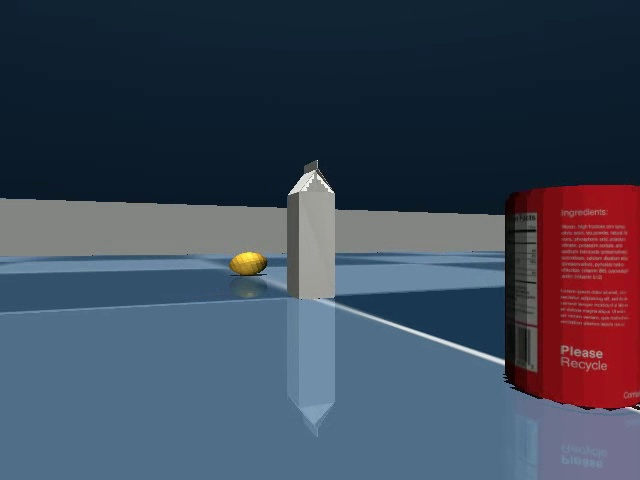can: (496, 175, 640, 425)
lemon: (224, 247, 272, 281)
milk: (282, 156, 344, 304)
